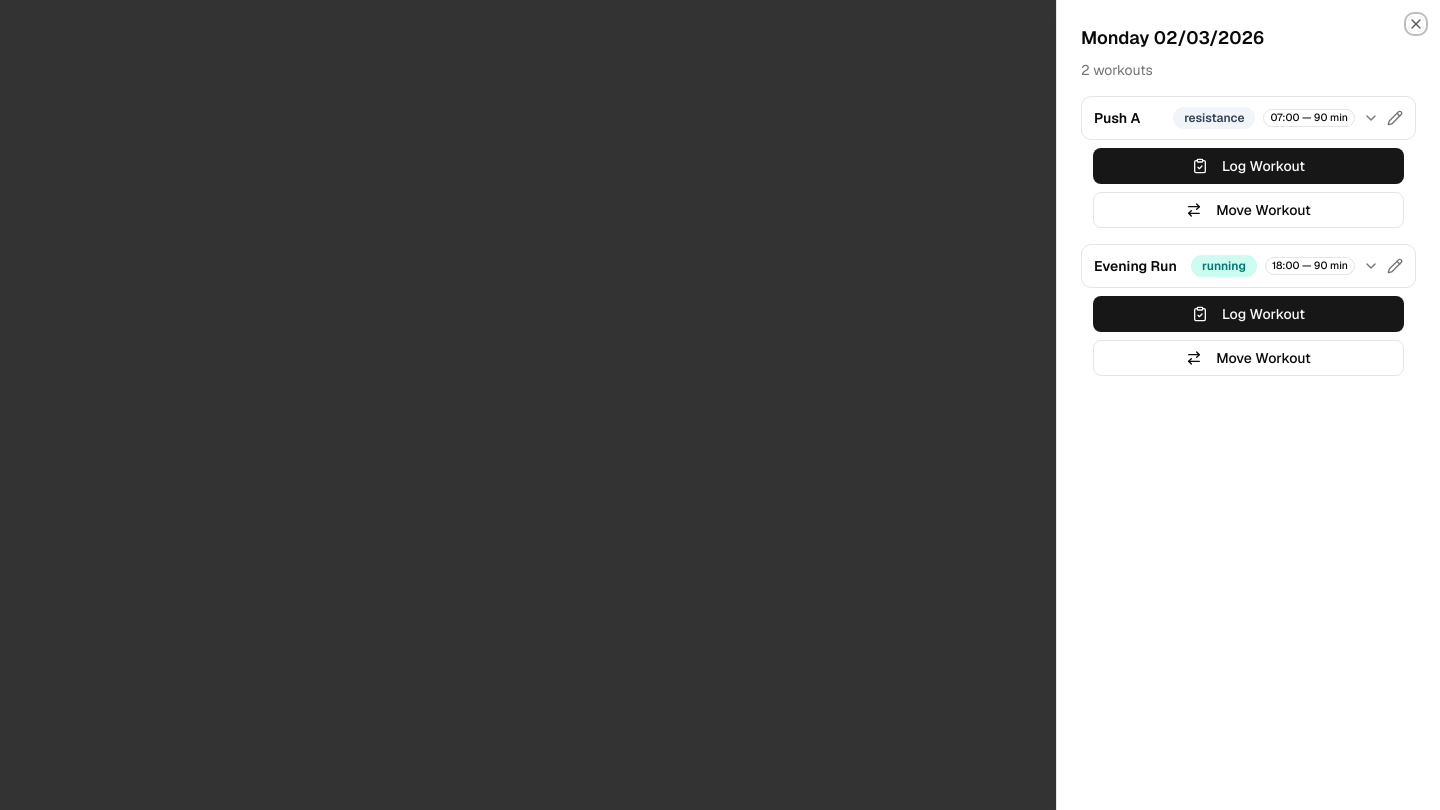
it: DayDetailPanel › Expandable cards (T146) › clicking collapsed card header expands it
The width and height of the screenshot is (1440, 810).
Expected: the number of elements with test id "workout-card" is 2, 1081,96 -> 1416,232; 1081,244 -> 1416,380
# Click the first card header to expand
Click the button with test id "workout-card-trigger" that starts with "Push A" at (1236, 118), box 1090,103 -> 1383,133
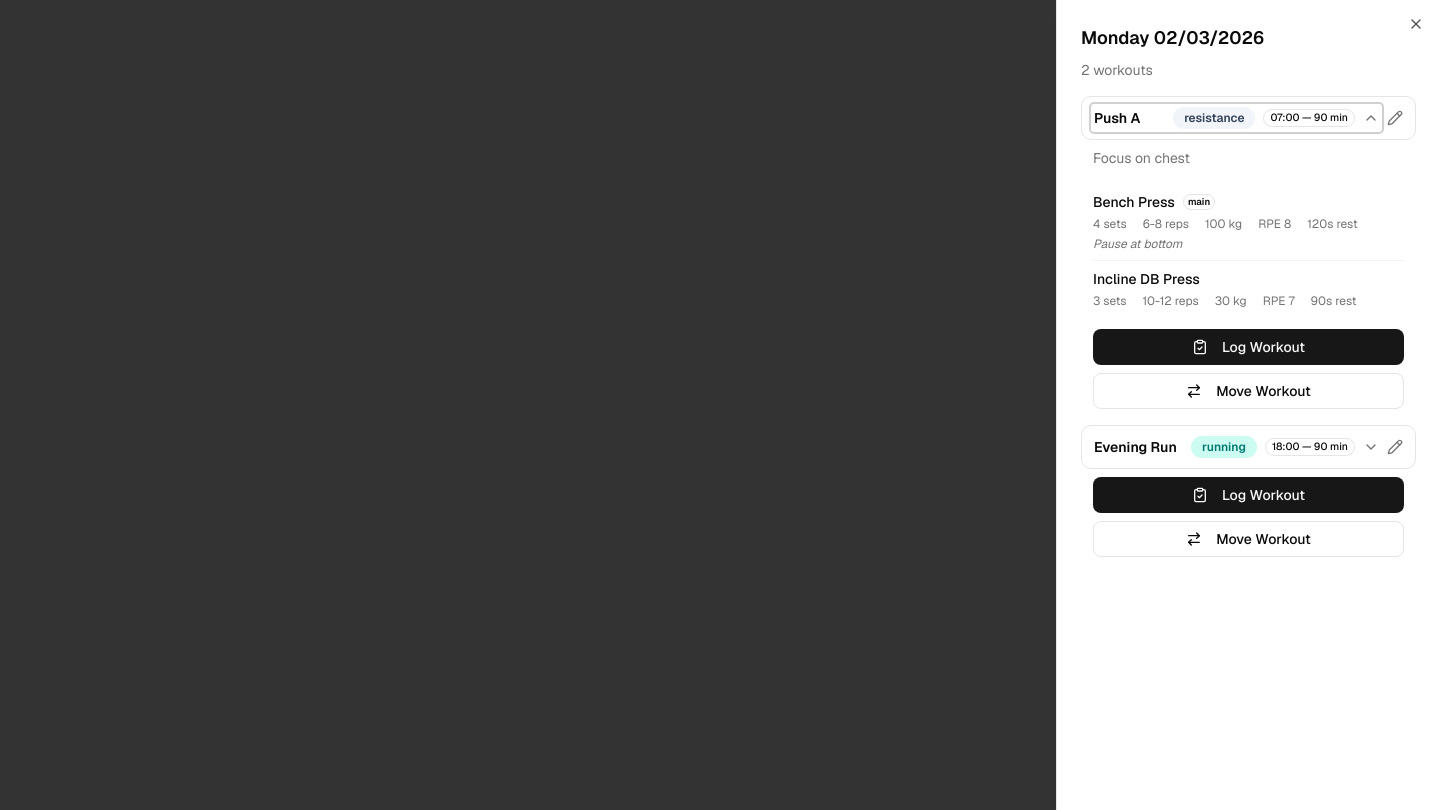
Expected: the number of elements with test id "slot-row" is 2, 1093,184 -> 1404,261; 1093,270 -> 1356,309
